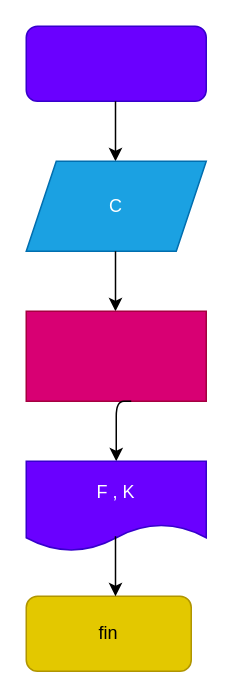
This 233x698 diagram has some shape labels left out. The centre of each missing label's shape, as x and y in pixels:
"F: 9/5 + 32 K: 273. 15" belongs at [115,355].
"inicio" belongs at [115,63].
